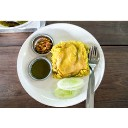briyani: (52, 43, 89, 77)
